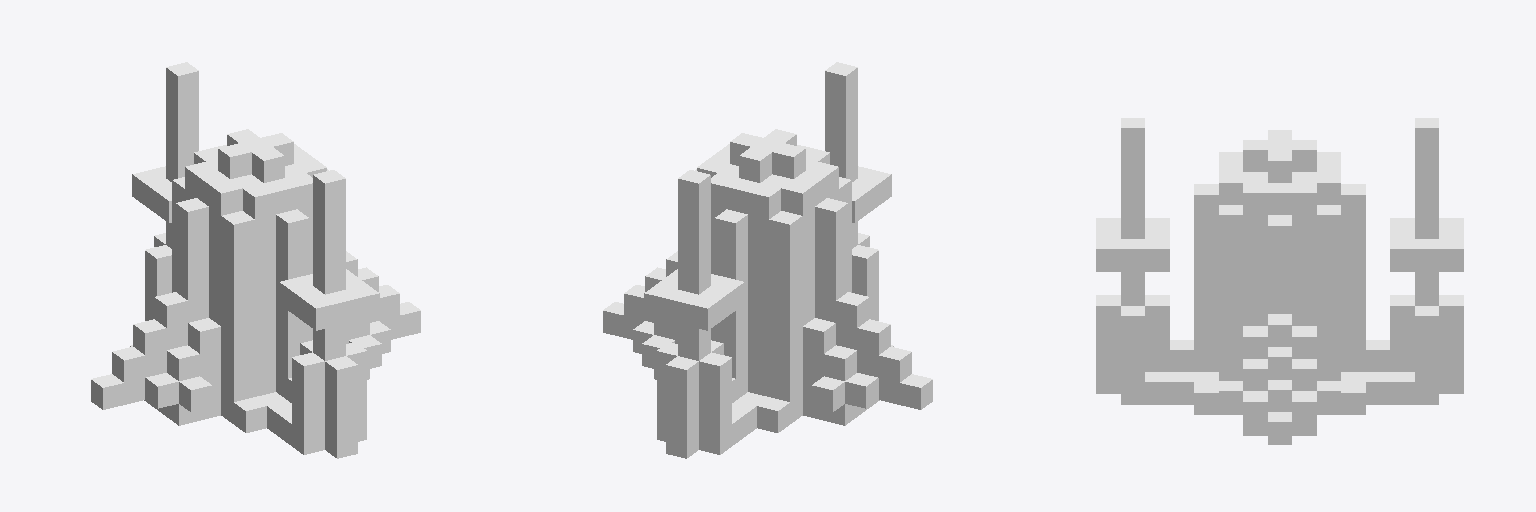
Rendered from rocket.obj.
The picture shows the model from 3 angles: view 1: azimuth 30°, elevation 25°; view 2: azimuth 150°, elevation 25°; view 3: azimuth 270°, elevation 25°; orthographic projection.
Size of the model in its own units: 15 by 12 by 15.